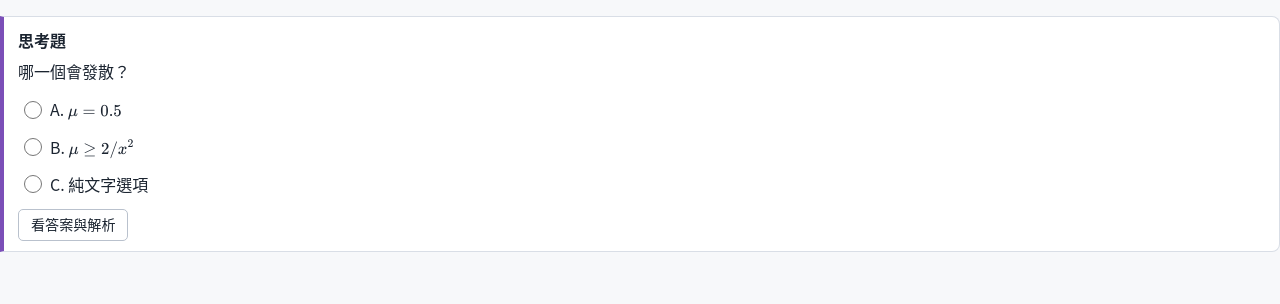
Test: Quiz／Prereq 的無障礙名稱 › Quiz 選項含數學時，單選鈕另給可念的 aria-label（「A.」之後不能是空的）
Expected: the element with class "katex" showing "μ≥ 2/x" is shown, [69,139,134,159]
Click the radio button labelled "A. μ= 0.5" at x=33, y=110, box [24,101,42,119]
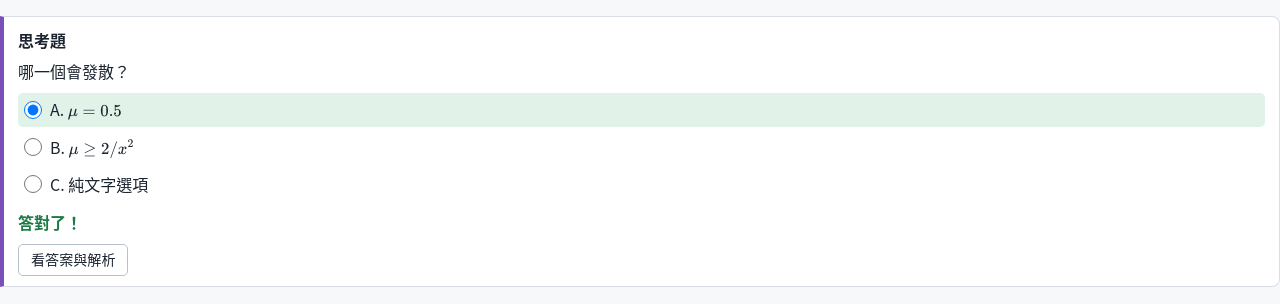
Result: the text with class "c-quiz-verdict" reads "答對了！" at [18,210,82,234]
